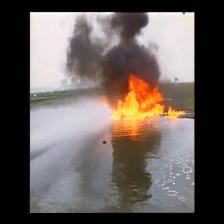fire: (114, 84, 180, 121)
smoke: (105, 14, 151, 80)
